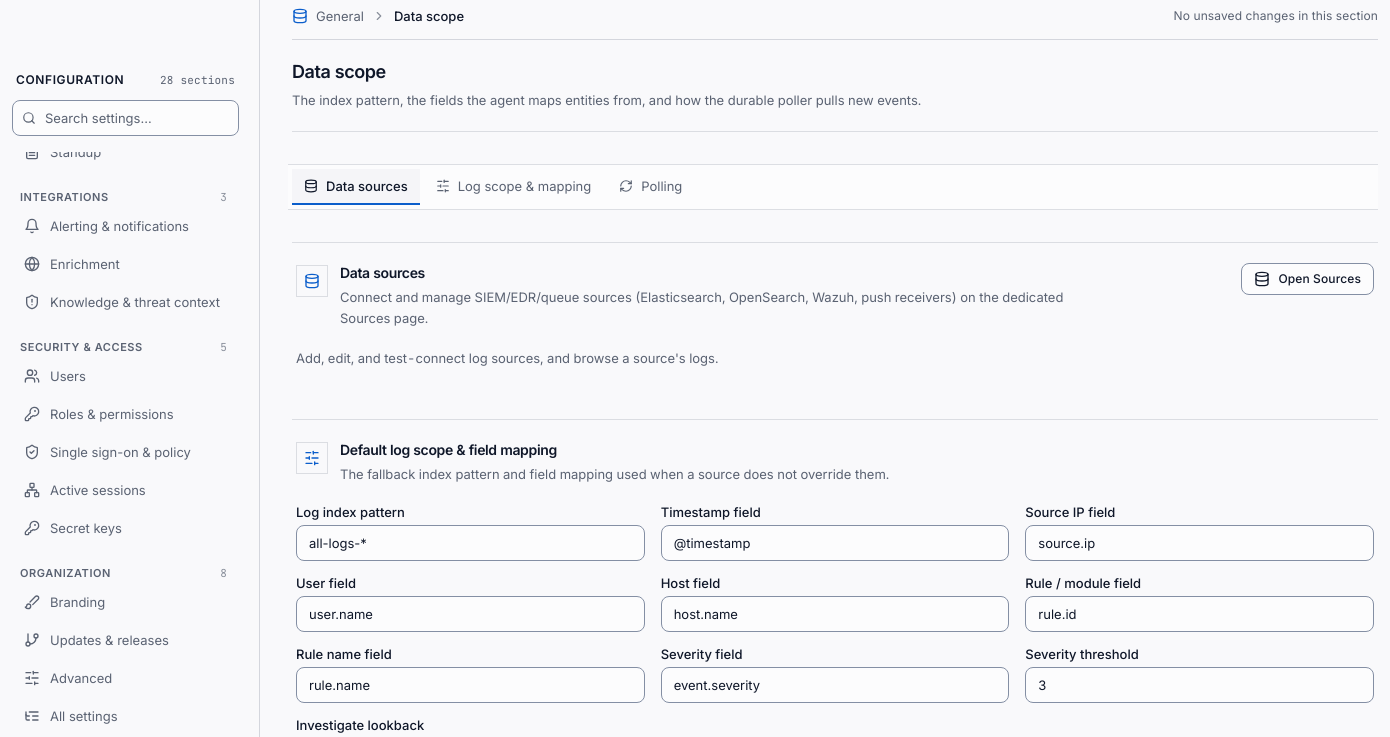
Test case: Settings IA consolidation (Round-5 Sett-B: 5 groups, Security promoted) › keeps the embedded SSO editor under one section heading and flat subsections
(page scrolled)
Click the button with test id "settings-section-security". click: click(124, 452)
box: [12,434,235,470]
(page scrolled)
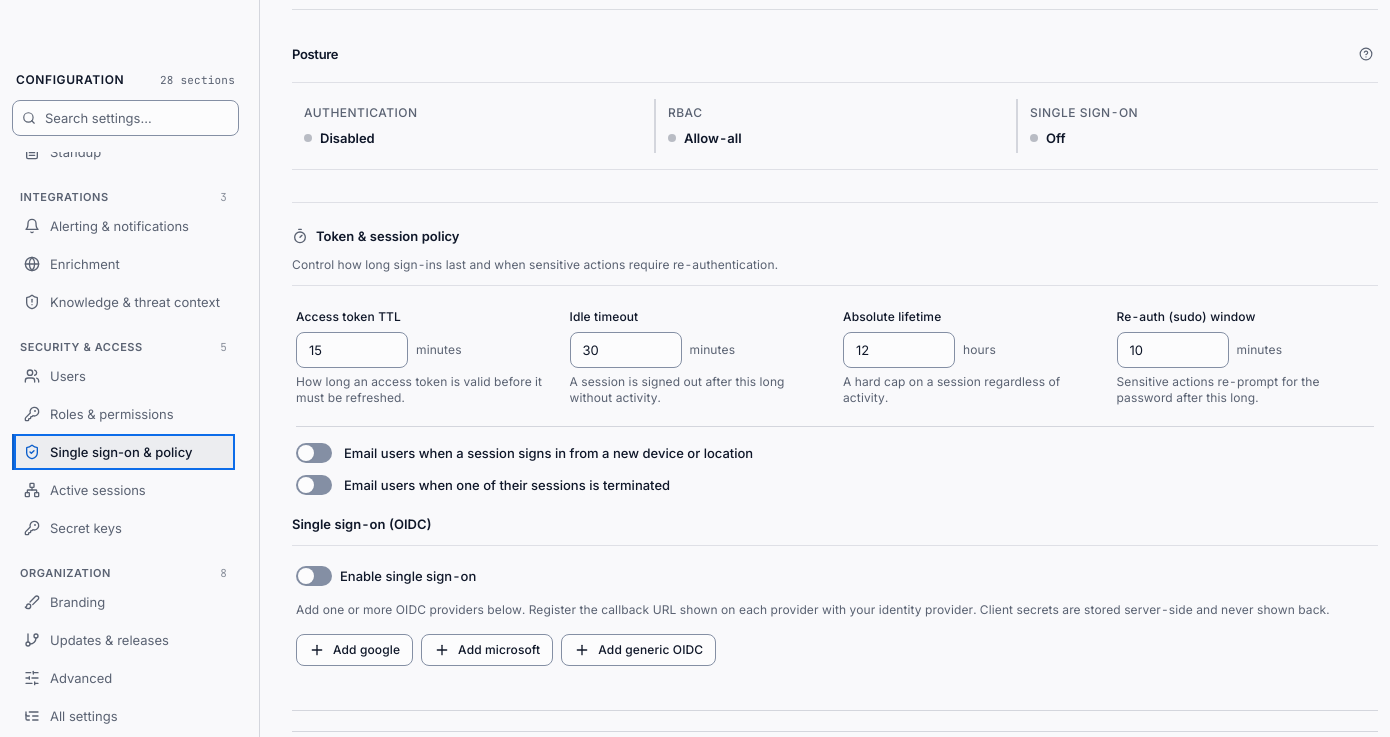
Check: the heading "Token & session policy" is shown, box [316,227,460,245]
Check: the heading "Single sign-on (OIDC)" is shown, box [292,515,432,533]
